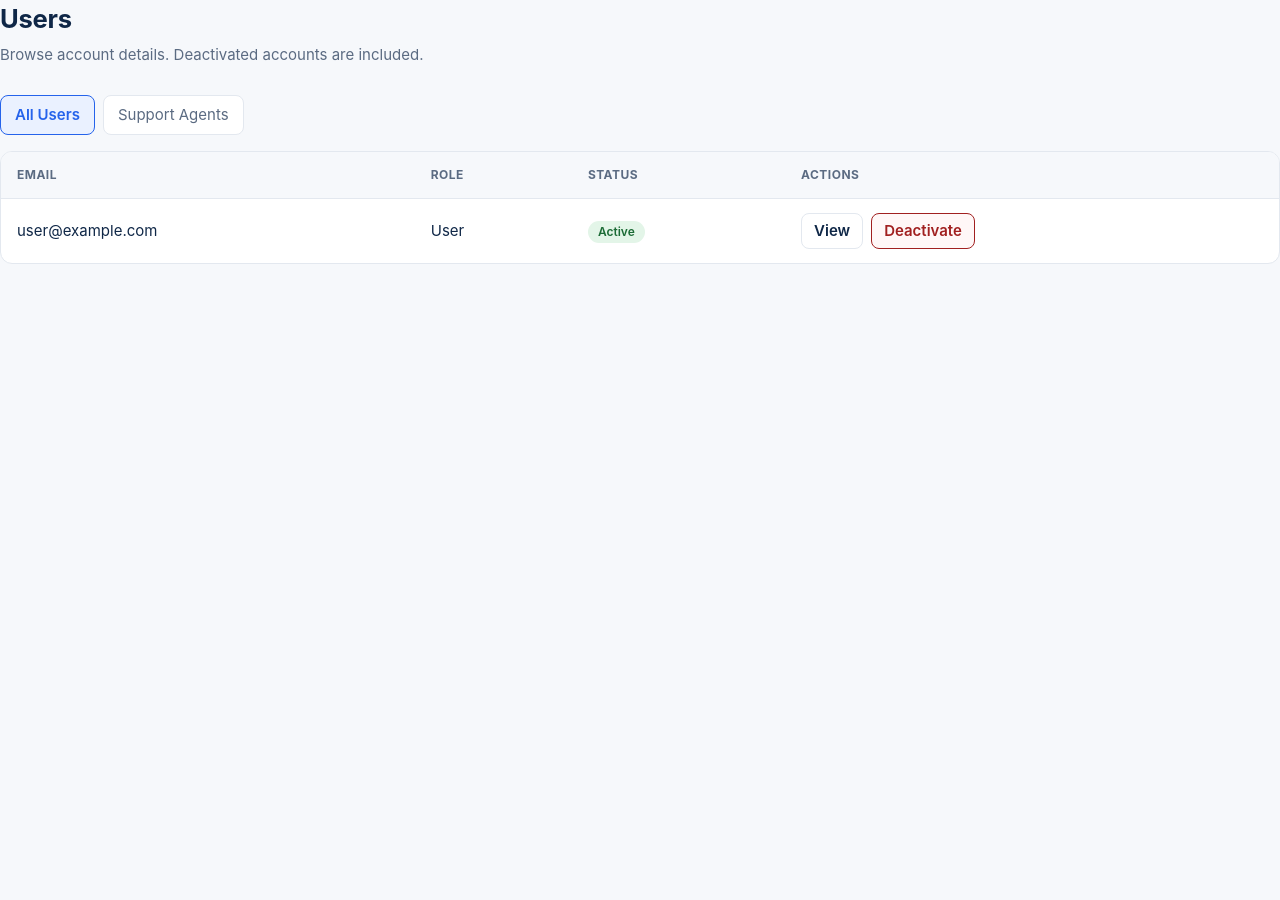
Test: UserDirectoryComponent › cancels without deactivating the account
Click the button with class "btn-danger": x=923, y=231 top-left (871, 213), bottom-right (975, 249)
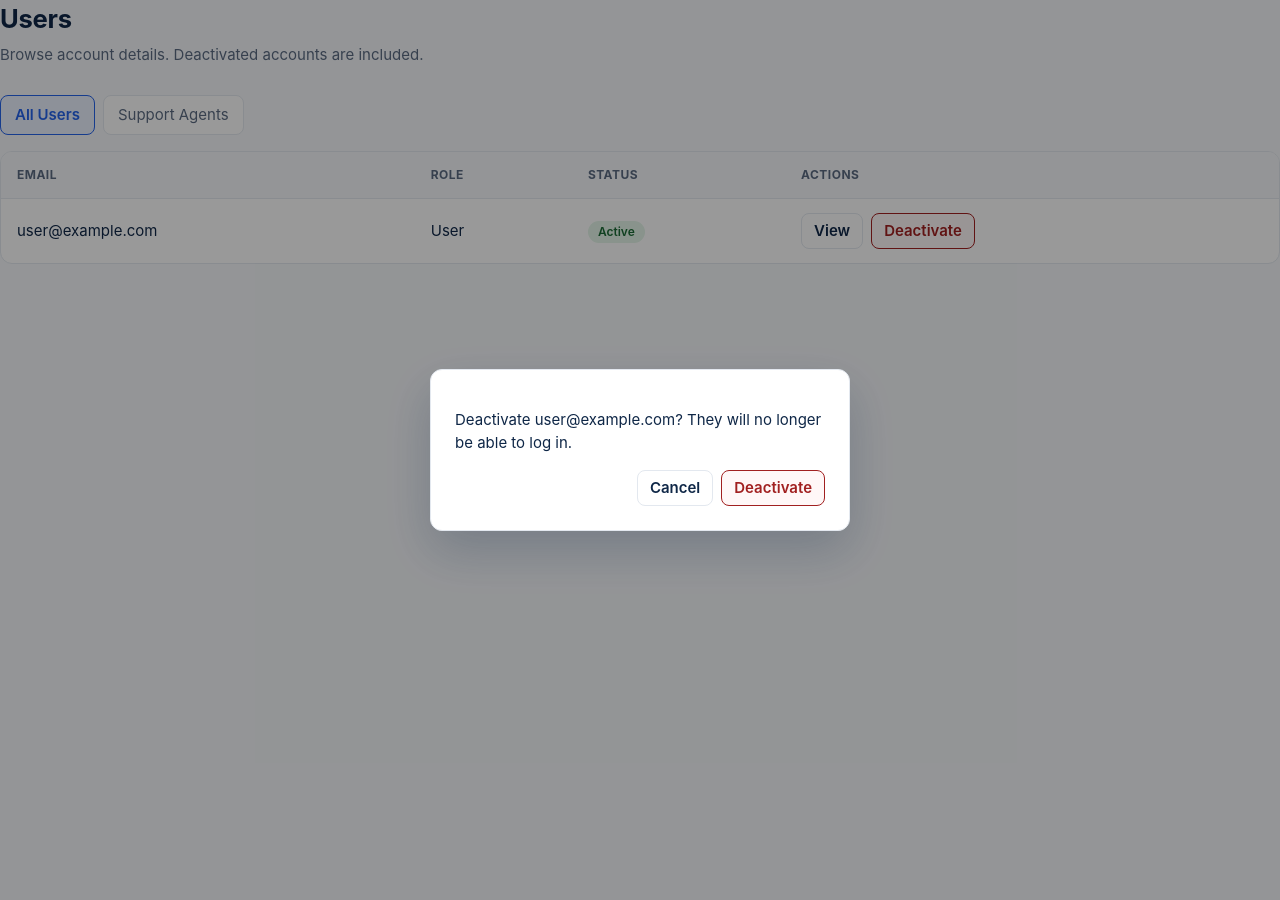
Click the button "Cancel": x=675, y=488 top-left (637, 470), bottom-right (713, 506)
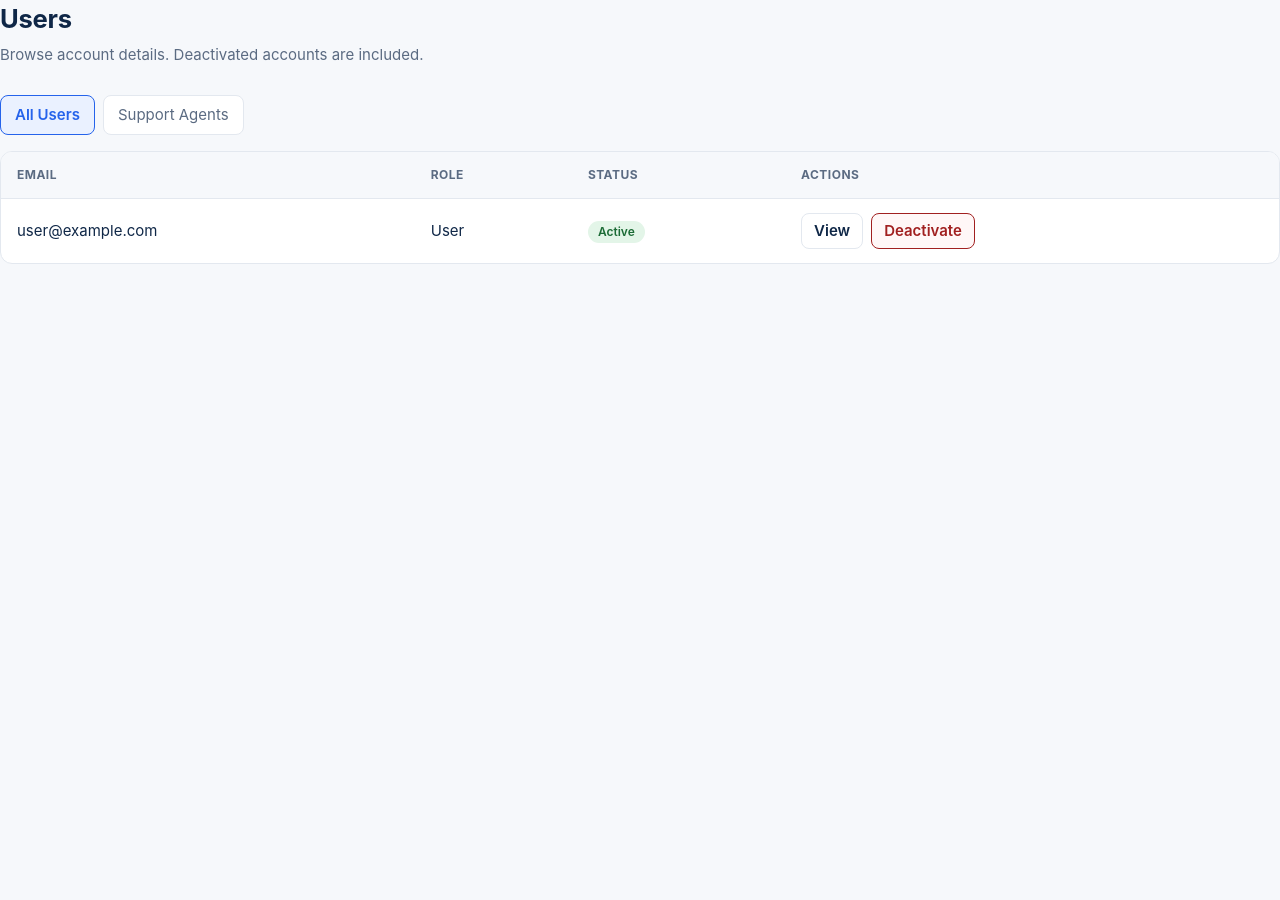
Expected: the dialog with class "dialog" is gone
